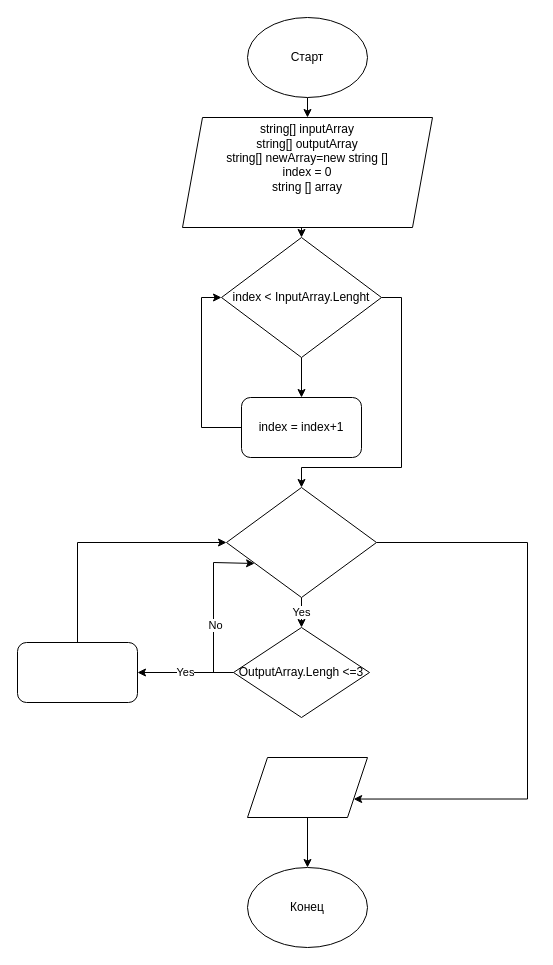
This 553x965 diagram has some shape labels left out. The centre of each missing label's shape, as x and y in pixels:
index < OutputArray.Lenght: (301,542)
newArray[]= OutputArray: (77,672)
PrintInputArray Print OutputArray: (307,787)
